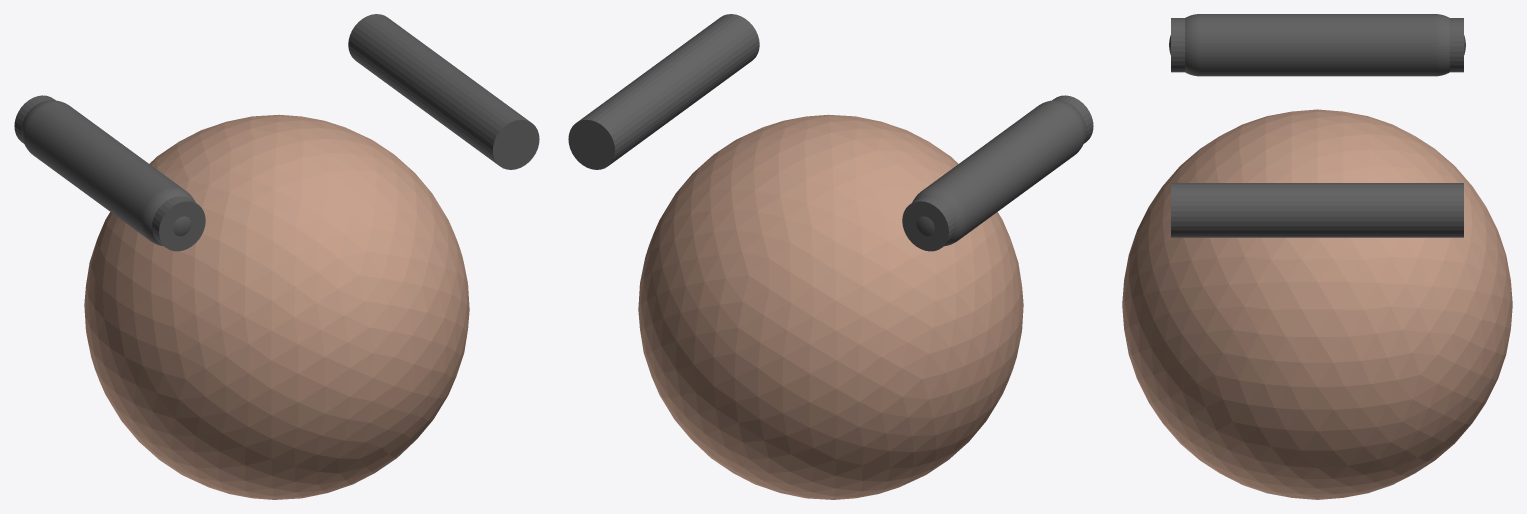
The model's file is walrus-camel-chimera.glb.
3 renders of one model, left to right at view 1: azimuth 30°, elevation 25°; view 2: azimuth 150°, elevation 25°; view 3: azimuth 270°, elevation 25°, orthographic.
Parts seen in each view (by area): view 1: body, tail_9_0, legs_8_3, tusks_2_1, legs_8_1, legs_8_2; view 2: body, tail_9_0, legs_8_1, tusks_2_1, legs_8_3, legs_8_0; view 3: body, tail_9_0, tusks_2_1, legs_8_1, legs_8_3, legs_8_0, legs_8_2.
Part boxes in pixels (bbox=[...]): body: bbox=[84, 114, 469, 499]; tail_9_0: bbox=[21, 100, 195, 246]; legs_8_3: bbox=[400, 50, 539, 169]; tusks_2_1: bbox=[373, 32, 504, 147]; legs_8_1: bbox=[348, 14, 477, 118]; legs_8_2: bbox=[152, 196, 205, 251]; body: bbox=[638, 114, 1023, 499]; tail_9_0: bbox=[912, 100, 1086, 246]; legs_8_1: bbox=[568, 49, 711, 169]; tusks_2_1: bbox=[601, 31, 735, 141]; legs_8_3: bbox=[627, 14, 759, 128]; legs_8_0: bbox=[902, 196, 955, 251]; body: bbox=[1122, 109, 1512, 499]; tail_9_0: bbox=[1169, 14, 1465, 76]; tusks_2_1: bbox=[1220, 183, 1414, 237]; legs_8_1: bbox=[1268, 183, 1463, 237]; legs_8_3: bbox=[1171, 183, 1366, 237]; legs_8_0: bbox=[1449, 18, 1463, 72]; legs_8_2: bbox=[1171, 18, 1185, 72].
Bounding box in the file's own units: 2.07 × 1.94 × 1.8.
